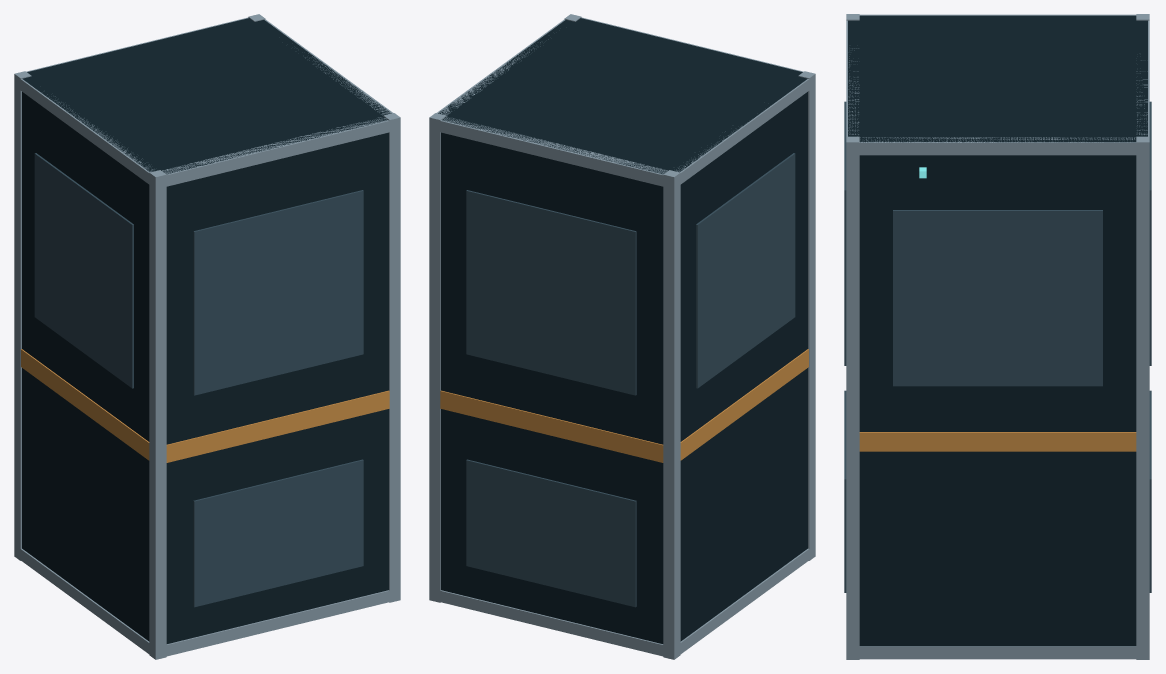
Rendered from cover-crate-cp02.glb.
3 renders of one model, left to right at view 1: azimuth 30°, elevation 25°; view 2: azimuth 150°, elevation 25°; view 3: azimuth 270°, elevation 25°, orthographic. The views are drawn at different scales.
Visible parts, largest first — view 1: Body, cover-crate-merged (×3); view 2: Body, cover-crate-merged (×3); view 3: Body, cover-crate-merged (×3).
Part boxes in pixels (x1,y1,x2,y2): Body: [22, 18, 391, 643]; cover-crate-merged (×3): [14, 14, 400, 659]; Body: [438, 18, 807, 643]; cover-crate-merged (×3): [429, 14, 815, 659]; Body: [848, 15, 1147, 646]; cover-crate-merged (×3): [844, 14, 1151, 659].
Bounding box in the file's own units: 2.09 × 3.81 × 2.05.
